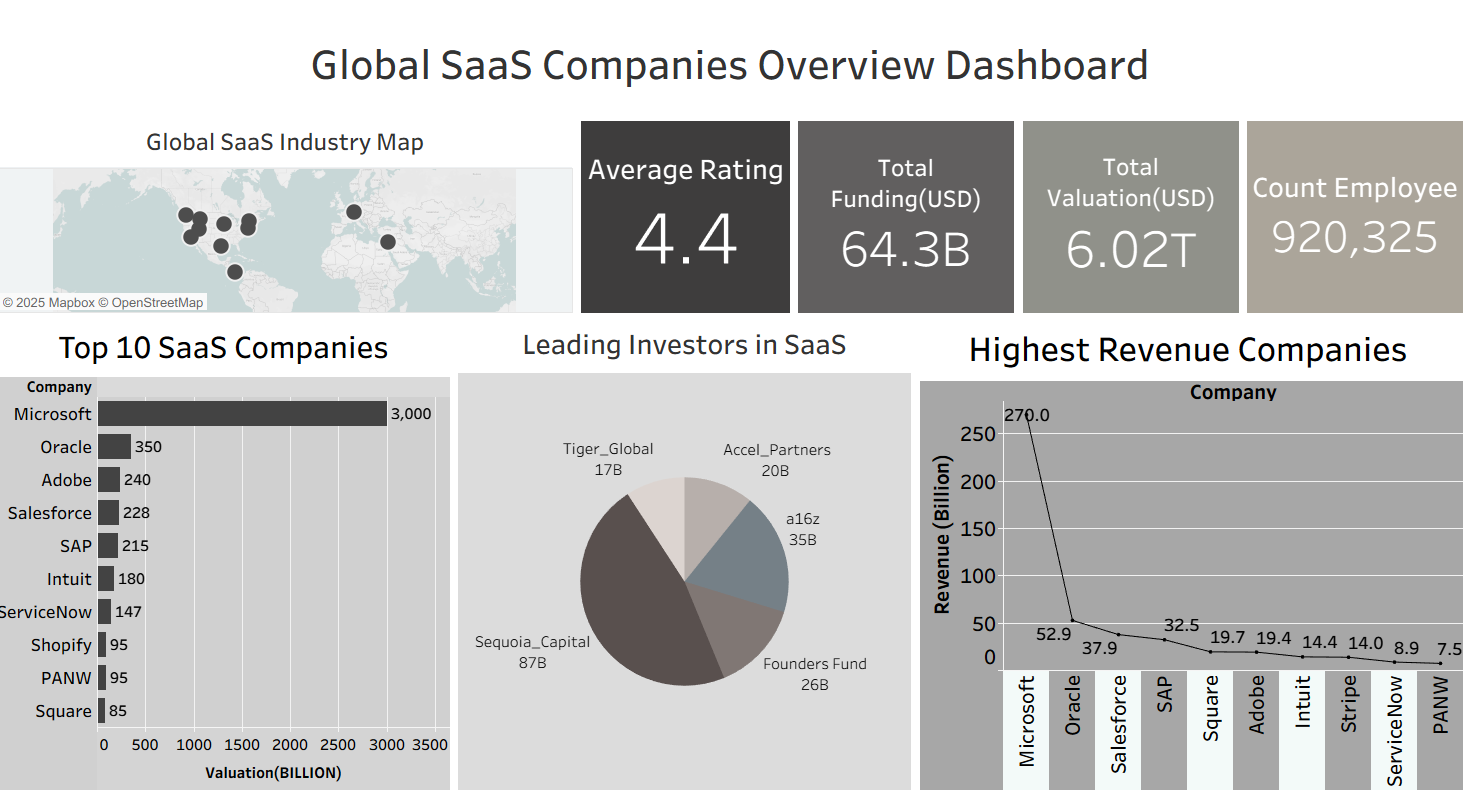

This screenshot's page, from the dashboard's own definition file:
{"tool":"tableau","page":{"name":"Dashboard 1","canvas":[1000,1000],"units":"permille","ordinal":0},"visuals":[{"type":"title","box":[4.9,10,888.5,135.9]},{"type":"dashboard-object","box":[873.9,10,14.6,29.9]},{"type":"filter","title":"Sheet 1","param":"[federated.1xj9pnn0i0hx7n133d0vc02nflfl].[none:Company Name:nk]","box":[893.3,10,101.8,164.6]},{"type":"worksheet","title":"Sheet 6","mark":"Circle","box":[4.9,145.9,352,249.4]},{"type":"worksheet","title":"Sheet 3","mark":"Automatic","box":[356.8,145.9,131.1,249.4]},{"type":"worksheet","title":"Sheet 4","mark":"Automatic","box":[487.9,145.9,135.2,249.4]},{"type":"worksheet","title":"Sheet 8","mark":"Automatic","box":[623.1,145.9,134.9,249.4]},{"type":"worksheet","title":"Sheet 2","mark":"Automatic","box":[758,145.9,135.3,249.4]},{"type":"worksheet","title":"Sheet 1","mark":"Automatic","rows":["Company Name"],"cols":["Valuation(B)"],"box":[4.9,395.3,278.1,594.8]},{"type":"worksheet","title":"Sheet 7","mark":"Pie","box":[283,395.3,278.2,594.8]},{"type":"worksheet","title":"Sheet 5","mark":"Line","rows":["Calculation_1691664649547833347"],"cols":["Company Name"],"box":[561.1,395.3,332.2,594.8]}]}

Visuals, with their boxes on the dashboard's canvas, which has no fixed pixel size, in thousandths of its width and height (x1, y1, x2, y2). These are canvas units, not pixel positions in the 1465x794 screenshot, which may show the page scaled, cropped or inside an application window:
title: [left=5, top=10, right=893, bottom=146]
dashboard-object: [left=874, top=10, right=888, bottom=40]
"Sheet 1" filter: [left=893, top=10, right=995, bottom=175]
"Sheet 6" worksheet (Circle marks): [left=5, top=146, right=357, bottom=395]
"Sheet 3" worksheet: [left=357, top=146, right=488, bottom=395]
"Sheet 4" worksheet: [left=488, top=146, right=623, bottom=395]
"Sheet 8" worksheet: [left=623, top=146, right=758, bottom=395]
"Sheet 2" worksheet: [left=758, top=146, right=893, bottom=395]
"Sheet 1" worksheet: [left=5, top=395, right=283, bottom=990]
"Sheet 7" worksheet (Pie marks): [left=283, top=395, right=561, bottom=990]
"Sheet 5" worksheet (Line marks): [left=561, top=395, right=893, bottom=990]
